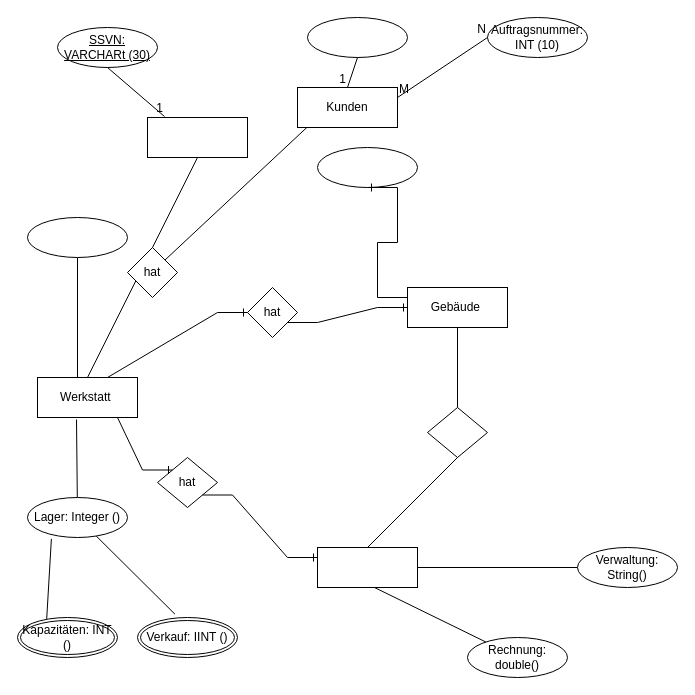
Image size: 695x695. Some labels were removed from this diagram. The shapes that lost their labels are listed below. From the top down, each one's centre as x and y in pixels, then its label:
At point 357,37: "KundenNr. INT (10)".
At point 197,137: "Mechaniker".
At point 367,167: "Mitarbeiter: VARCHAR (30)".
At point 77,237: "Dienstleitung: ENUM ( Rep.)".
At point 457,432: "besitzt".
At point 367,567: "Büro".
